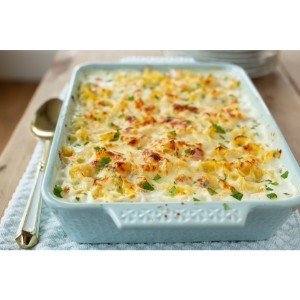cheese_brain food: (95, 98, 233, 184)
